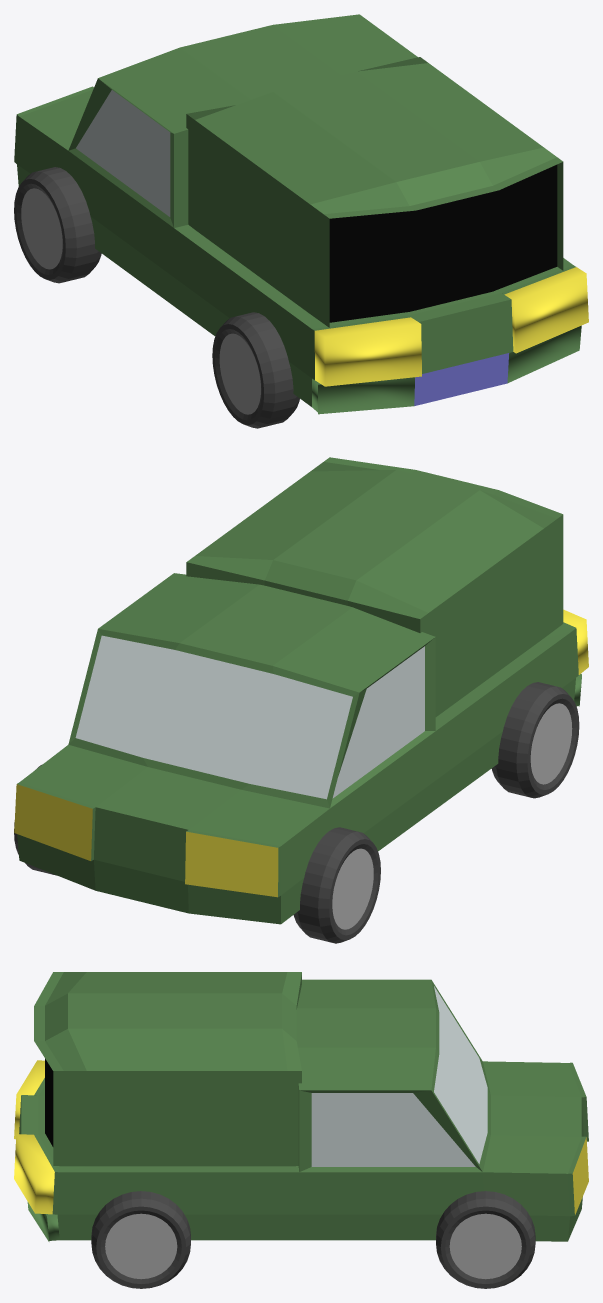
Rendered from resupplyTruck.gltf.
3 views of the same model, one above another, from view 1: azimuth 30°, elevation 25°; view 2: azimuth 150°, elevation 25°; view 3: azimuth 270°, elevation 25° (orthographic). The views are drawn at different scales.
Parts seen in each view (by area): view 1: Cube.001, Cylinder, Cylinder.001; view 2: Cube.001, Cylinder.001, Cylinder; view 3: Cube.001, Cylinder.002, Cylinder.003.
Boxes of the visible parts, <box> form: Cube.001: <box>14,14,588,414</box>; Cylinder: <box>14,167,101,283</box>; Cylinder.001: <box>212,312,299,428</box>; Cube.001: <box>14,457,588,924</box>; Cylinder.001: <box>491,682,579,798</box>; Cylinder: <box>293,827,380,943</box>; Cube.001: <box>14,972,588,1241</box>; Cylinder.002: <box>436,1191,535,1288</box>; Cylinder.003: <box>91,1191,190,1288</box>.
Size of the model in its own units: 4.22 by 3.16 by 7.67.
